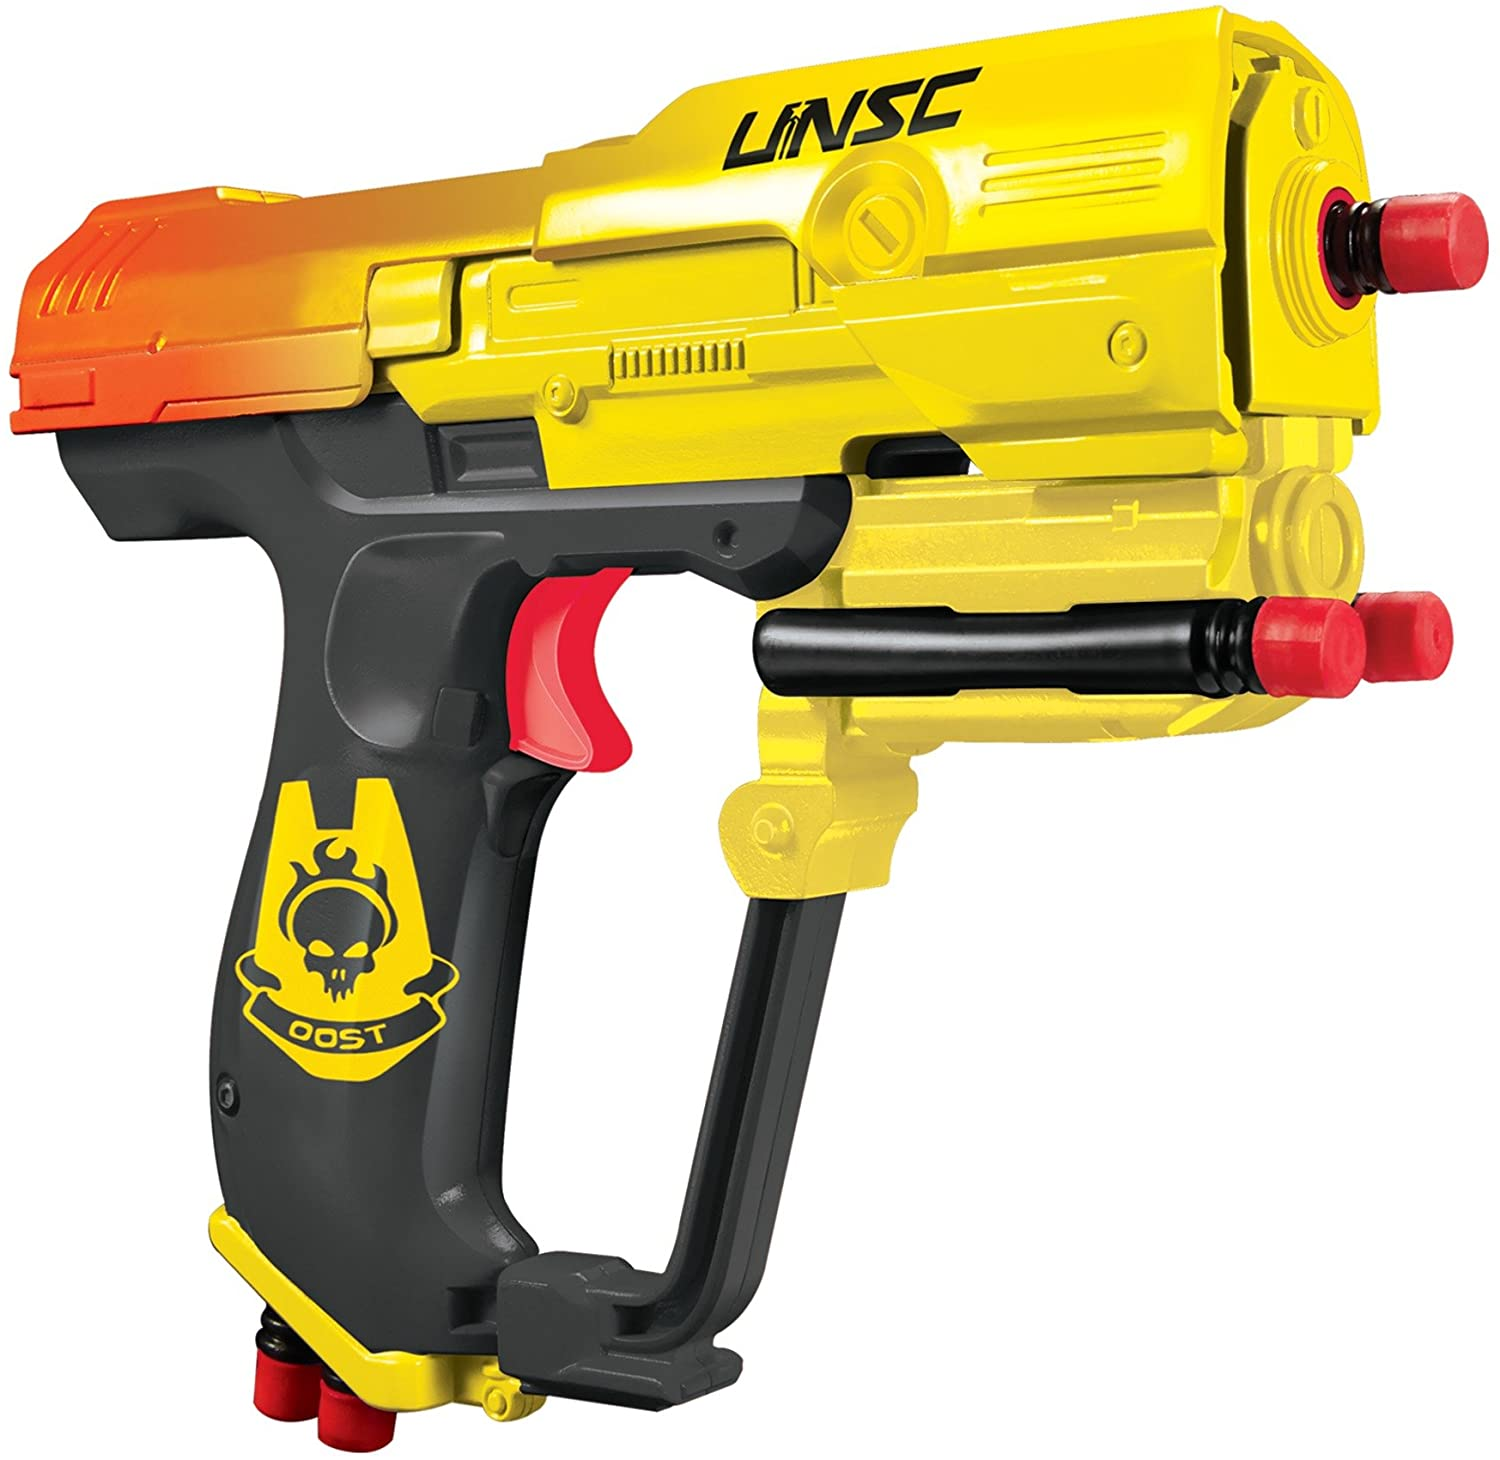Arma Falsa: (8, 13, 1497, 1410)
